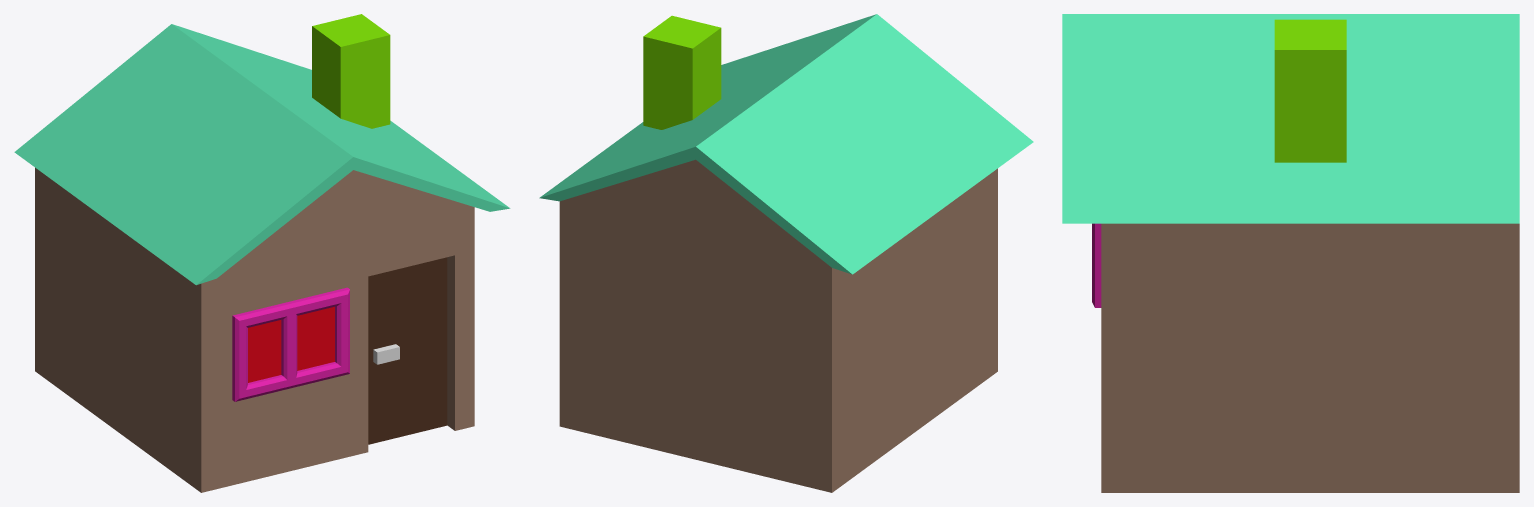
Rendered from House Test 1.fbx.
3 renders of one model, left to right at view 1: azimuth 30°, elevation 25°; view 2: azimuth 150°, elevation 25°; view 3: azimuth 270°, elevation 25°, orthographic. The views are drawn at different scales.
Visible parts, largest first — view 1: Cube; view 2: Cube; view 3: Cube.
Boxes of the visible parts, x1,y1,x2,y2 form: Cube: [14, 14, 510, 492]; Cube: [539, 14, 1033, 492]; Cube: [1062, 14, 1519, 492].
Bounding box in the file's own units: 438 × 458 × 438.
